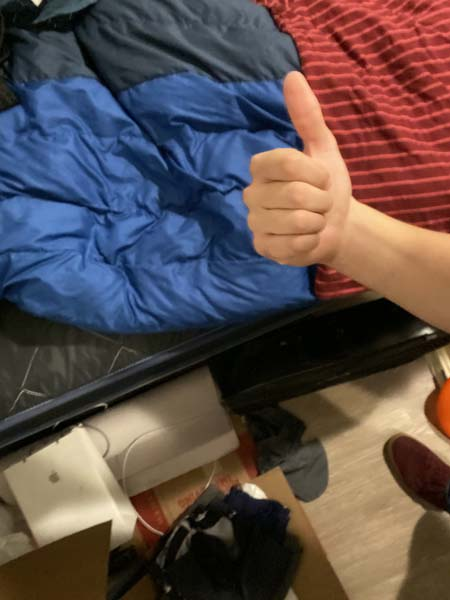Thumbs Up: (231, 62, 364, 294)
